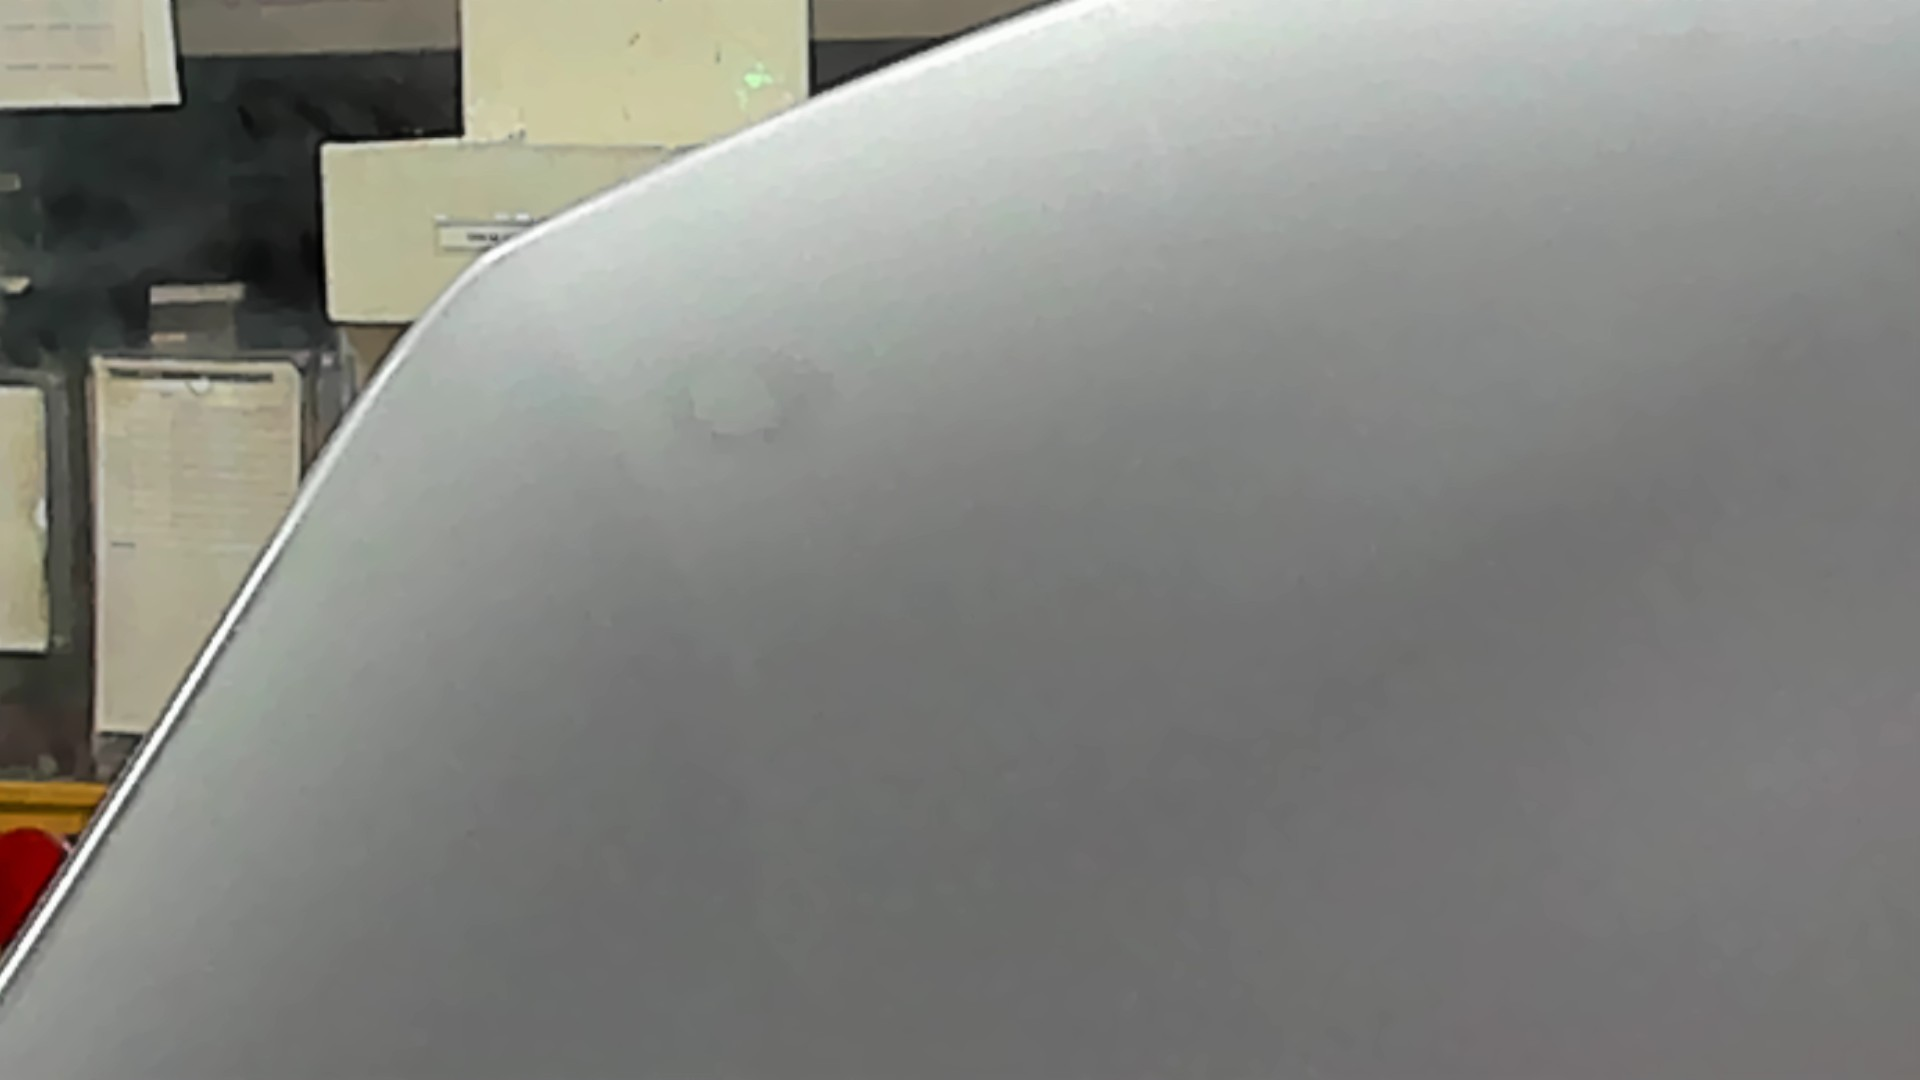capo: (633, 210, 1920, 1080)
